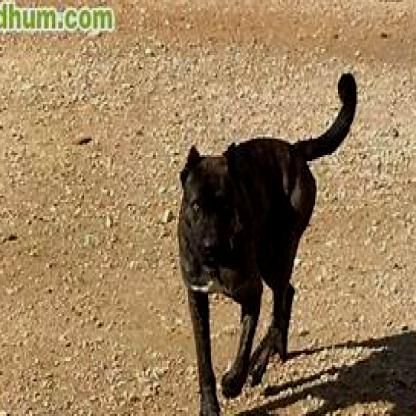dog: (175, 69, 360, 414)
